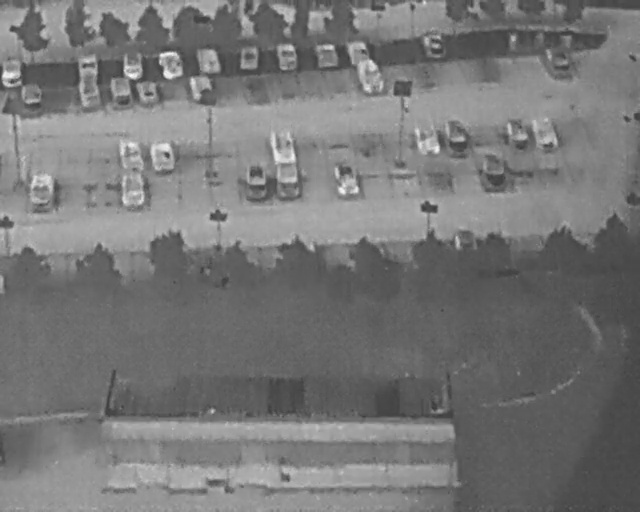Car: (353, 55, 388, 98), (528, 112, 562, 154), (330, 157, 363, 199), (539, 39, 574, 78), (266, 127, 299, 168), (479, 148, 509, 192), (273, 159, 303, 202), (186, 70, 219, 108), (410, 121, 442, 159), (28, 168, 56, 208), (118, 169, 147, 207), (75, 75, 104, 112), (116, 137, 145, 173), (148, 138, 177, 174), (342, 35, 373, 68), (155, 49, 185, 81), (133, 75, 163, 107), (244, 161, 269, 198), (108, 74, 135, 107), (274, 40, 301, 72), (313, 39, 340, 71), (445, 116, 469, 151), (505, 115, 530, 148), (195, 44, 221, 73), (120, 50, 145, 80), (421, 29, 446, 58), (237, 44, 262, 72), (20, 80, 44, 107), (76, 53, 100, 80), (1, 58, 23, 87)
